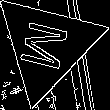M_E: (17, 17, 77, 75)
